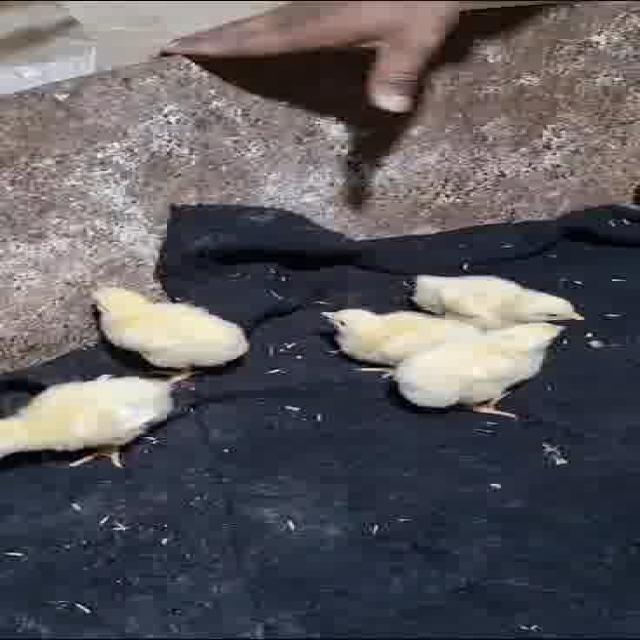poussin: (390, 318, 566, 420), (0, 374, 179, 471), (76, 285, 259, 374), (399, 266, 599, 326), (320, 298, 430, 365)
